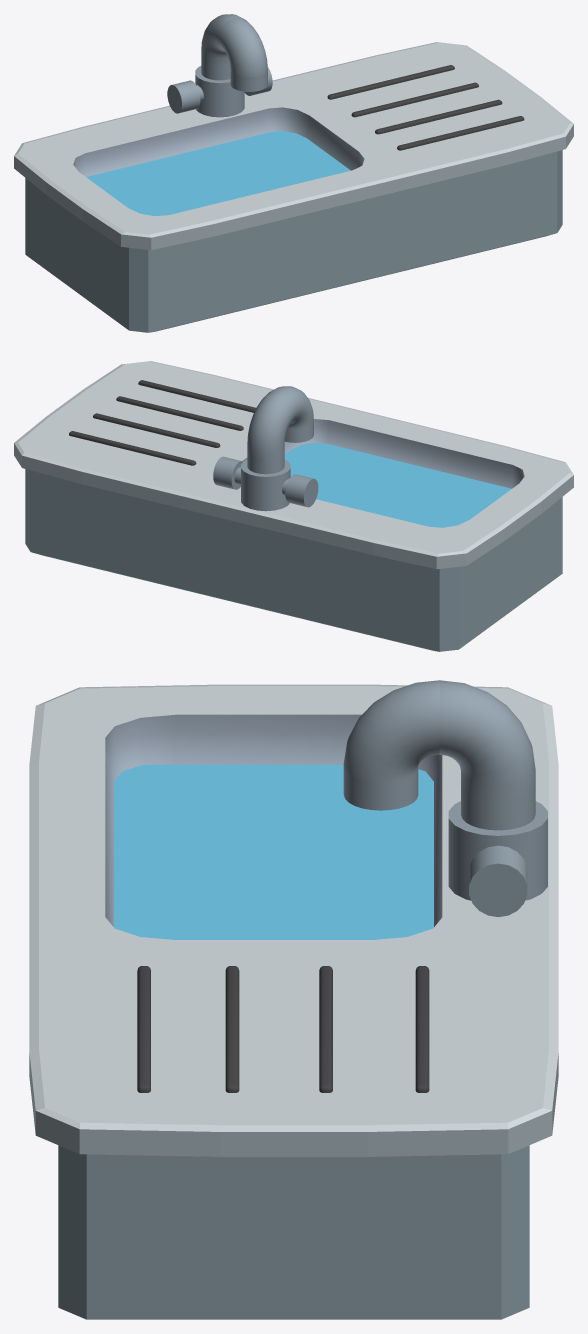
Rendered from Sink_Water.fbx.
3 renders of one model, top to bottom at view 1: azimuth 30°, elevation 25°; view 2: azimuth 150°, elevation 25°; view 3: azimuth 270°, elevation 25°, orthographic. The views are drawn at different scales.
Visible parts, largest first — view 1: Sink_0, Box001, Loft001, Cylinder001, Cylinder004, ChamferBox003, ChamferBox002, ChamferBox004, ChamferBox001; view 2: Sink_0, Box001, Loft001, Cylinder001, Cylinder004, ChamferBox001, ChamferBox002, ChamferBox003, ChamferBox004, Cylinder005; view 3: Sink_0, Box001, Loft001, Cylinder001, Cylinder005, ChamferBox001, ChamferBox003, ChamferBox002, ChamferBox004.
Part boxes in pixels (box(x1,y1,x2,y2)): Sink_0: box(14, 42, 573, 332); Box001: box(86, 131, 350, 216); Loft001: box(201, 14, 267, 91); Cylinder001: box(195, 66, 244, 117); Cylinder004: box(167, 80, 200, 113); ChamferBox003: box(375, 99, 502, 134); ChamferBox002: box(351, 82, 478, 117); ChamferBox004: box(397, 116, 524, 150); ChamferBox001: box(327, 65, 454, 99); Sink_0: box(14, 361, 573, 651); Box001: box(284, 442, 511, 527); Loft001: box(247, 386, 313, 474); Cylinder001: box(241, 460, 290, 511); Cylinder004: box(285, 474, 318, 507); ChamferBox001: box(69, 431, 196, 465); ChamferBox002: box(93, 413, 220, 447); ChamferBox003: box(116, 396, 243, 430); ChamferBox004: box(138, 380, 255, 412); Cylinder005: box(213, 456, 242, 489); Sink_0: box(29, 684, 558, 1319); Box001: box(114, 764, 433, 939); Loft001: box(343, 680, 535, 830); Cylinder001: box(448, 801, 547, 900); Cylinder005: box(469, 845, 527, 917); ChamferBox001: box(415, 966, 429, 1092); ChamferBox003: box(225, 966, 239, 1092); ChamferBox002: box(319, 966, 332, 1092); ChamferBox004: box(137, 966, 150, 1092).
Bounding box in the file's own units: 84.56 × 35.98 × 42.28.
5 materials, 1 textured.
